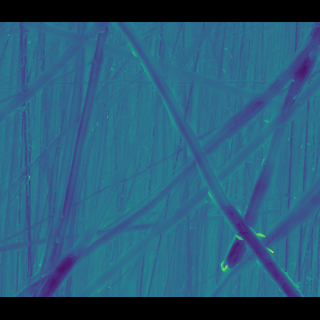Loch: (8, 142, 209, 277), (215, 43, 319, 257), (0, 41, 169, 107)
